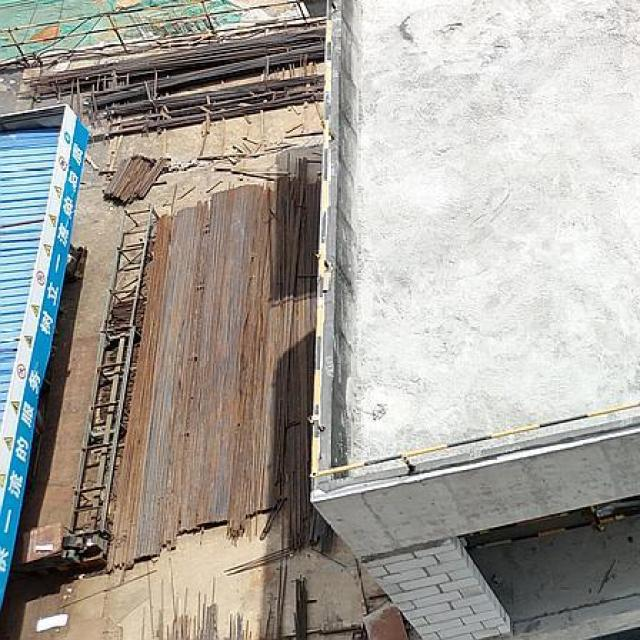edge_guardrail: (308, 0, 640, 480), (0, 0, 310, 67), (458, 495, 640, 553)
